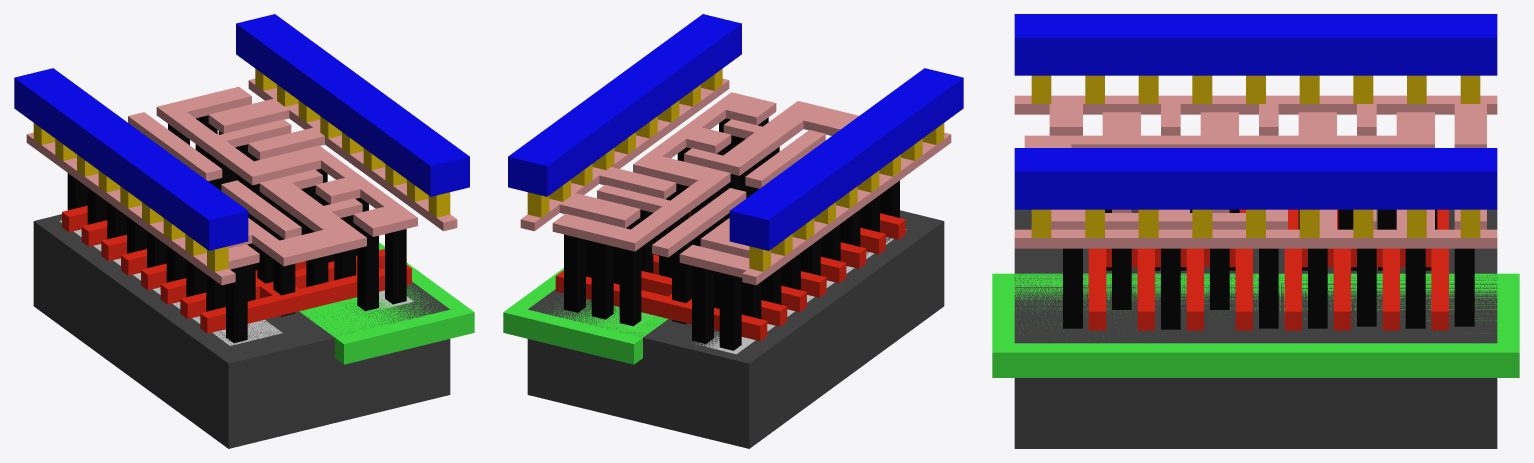
File: sky130_fd_sc_hd__nor2_4.obj
3 renders of one model, left to right at view 1: azimuth 30°, elevation 25°; view 2: azimuth 150°, elevation 25°; view 3: azimuth 270°, elevation 25°, orthographic. The views are drawn at different scales.
Visible parts, largest first — view 1: subs, metal1, li, licon, poly, nwell, mcon, diff; view 2: subs, metal1, li, licon, poly, nwell, mcon, diff; view 3: metal1, subs, li, nwell, licon, poly, mcon.
Part boxes in pixels (box(x1,y1,x2,y2)): subs: box(33, 214, 450, 448); metal1: box(14, 14, 469, 250); li: box(26, 78, 457, 285); licon: box(67, 115, 406, 343); poly: box(62, 205, 411, 333); nwell: box(299, 242, 474, 364); mcon: box(33, 68, 450, 271); diff: box(59, 220, 282, 345); subs: box(527, 210, 944, 448); metal1: box(508, 14, 963, 250); li: box(520, 78, 951, 285); licon: box(564, 117, 899, 350); poly: box(555, 211, 905, 341); nwell: box(503, 268, 667, 364); mcon: box(527, 68, 944, 271); diff: box(696, 229, 906, 354); metal1: box(1014, 14, 1497, 209); subs: box(1014, 209, 1497, 448); li: box(1014, 95, 1497, 248); nwell: box(992, 273, 1519, 377); licon: box(1063, 209, 1474, 329); poly: box(1088, 209, 1448, 330); mcon: box(1031, 75, 1480, 237).
Size of the model in its own units: 3.2 by 2.74 by 4.52.
